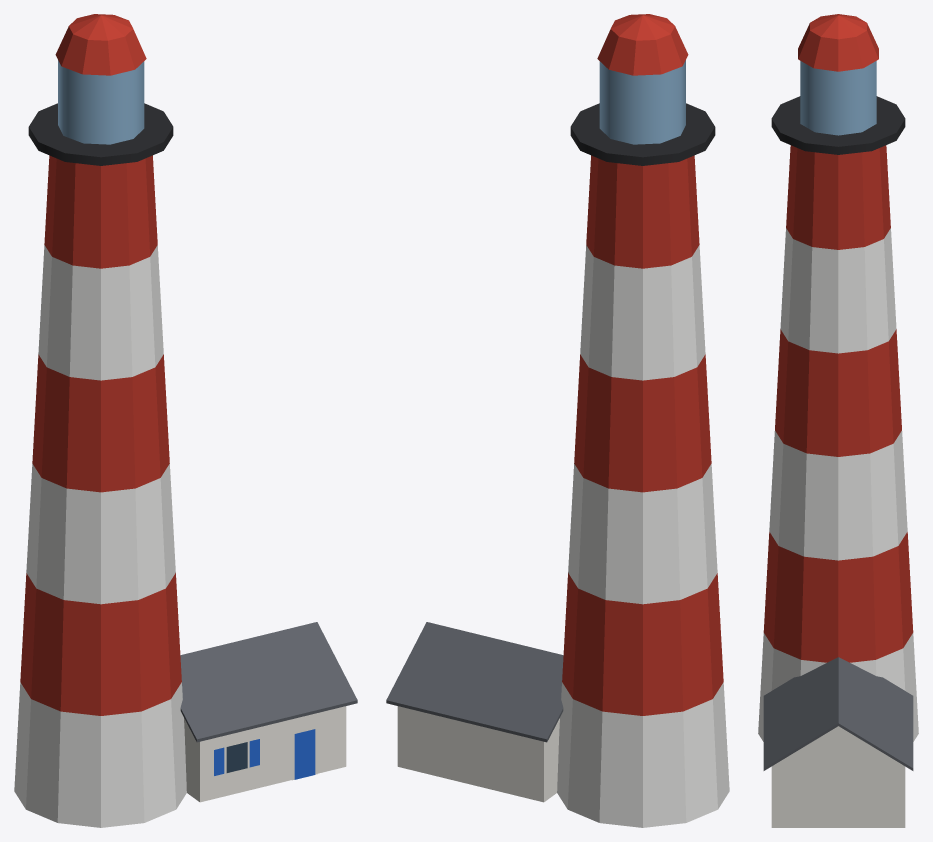
The model's file is phare.glb.
3 views of the same model, side by side, from view 1: azimuth 30°, elevation 25°; view 2: azimuth 150°, elevation 25°; view 3: azimuth 270°, elevation 25° (orthographic). The views are drawn at different scales.
Parts seen in each view (by area): view 1: phare; view 2: phare; view 3: phare.
Boxes of the visible parts, x1=… form: phare: x1=14, y1=14, x2=357, y2=827; phare: x1=386, y1=14, x2=729, y2=827; phare: x1=758, y1=14, x2=918, y2=827.
Size of the model in its own units: 13.95 by 35.5 by 7.2.
Materials: 1 (1 with a texture image).
